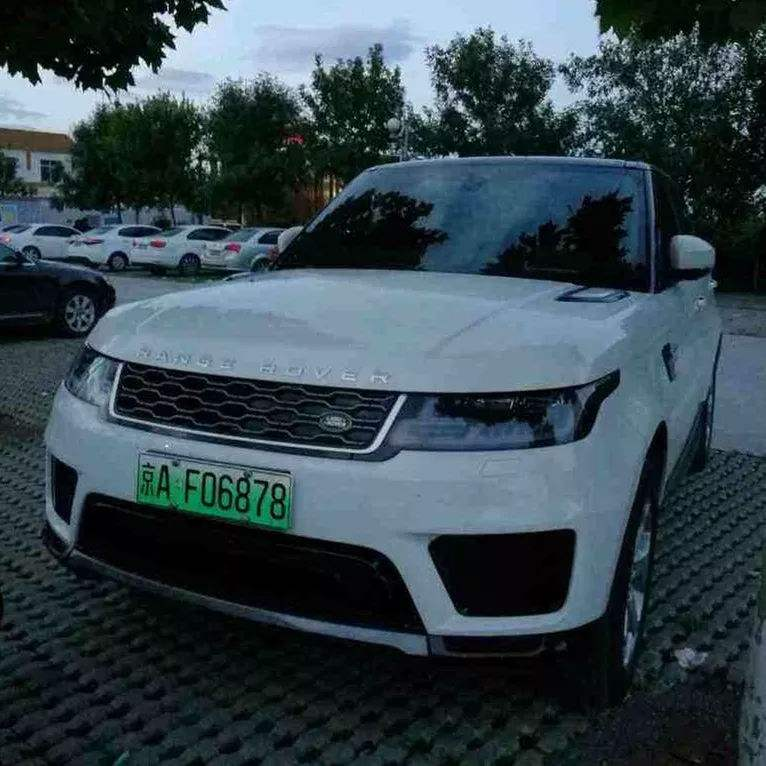plate: (126, 436, 305, 543)
